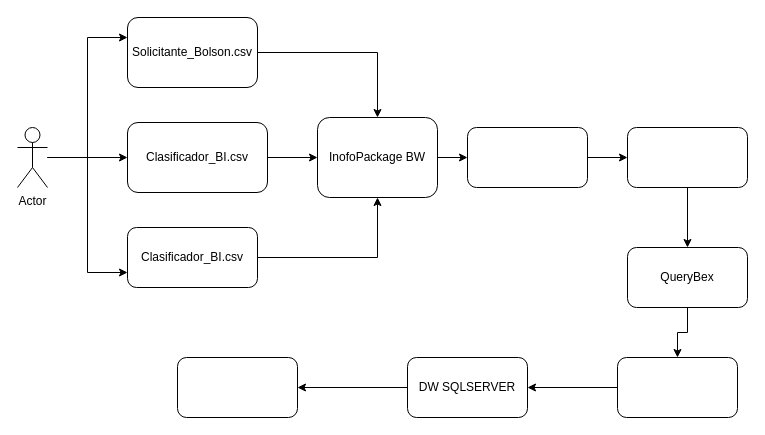
Image size: 765x435. Some labels were removed from this diagram. The centre of each missing label's shape, as x and y in pixels:
MSTR - Atributos: point (237, 387)
MSTR DataMart: point (677, 387)
ODS: point (687, 157)
PSA: point (527, 157)
